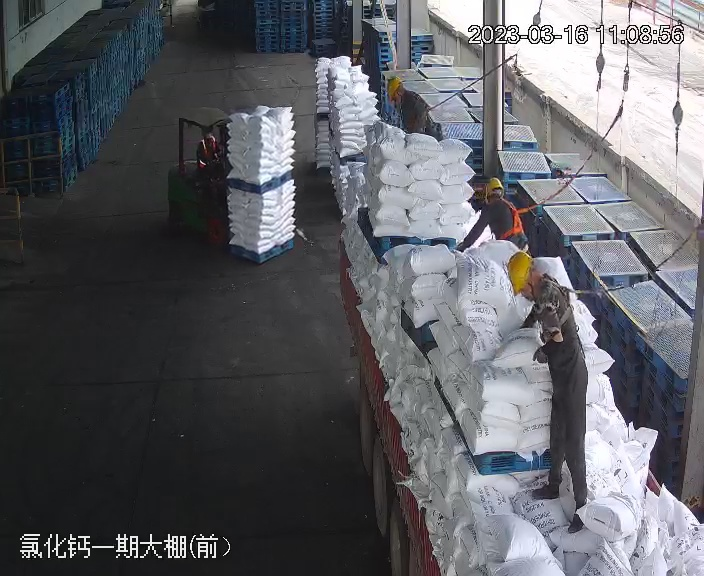belt: (534, 274, 582, 330), (490, 197, 530, 239), (398, 85, 433, 127)
head: (504, 249, 574, 313), (476, 177, 521, 218), (387, 76, 424, 107)
helmet: (505, 249, 534, 295), (483, 176, 505, 197), (386, 76, 403, 98)
people: (511, 249, 595, 533), (460, 174, 527, 251), (387, 76, 439, 139)
truck: (330, 64, 697, 576)
